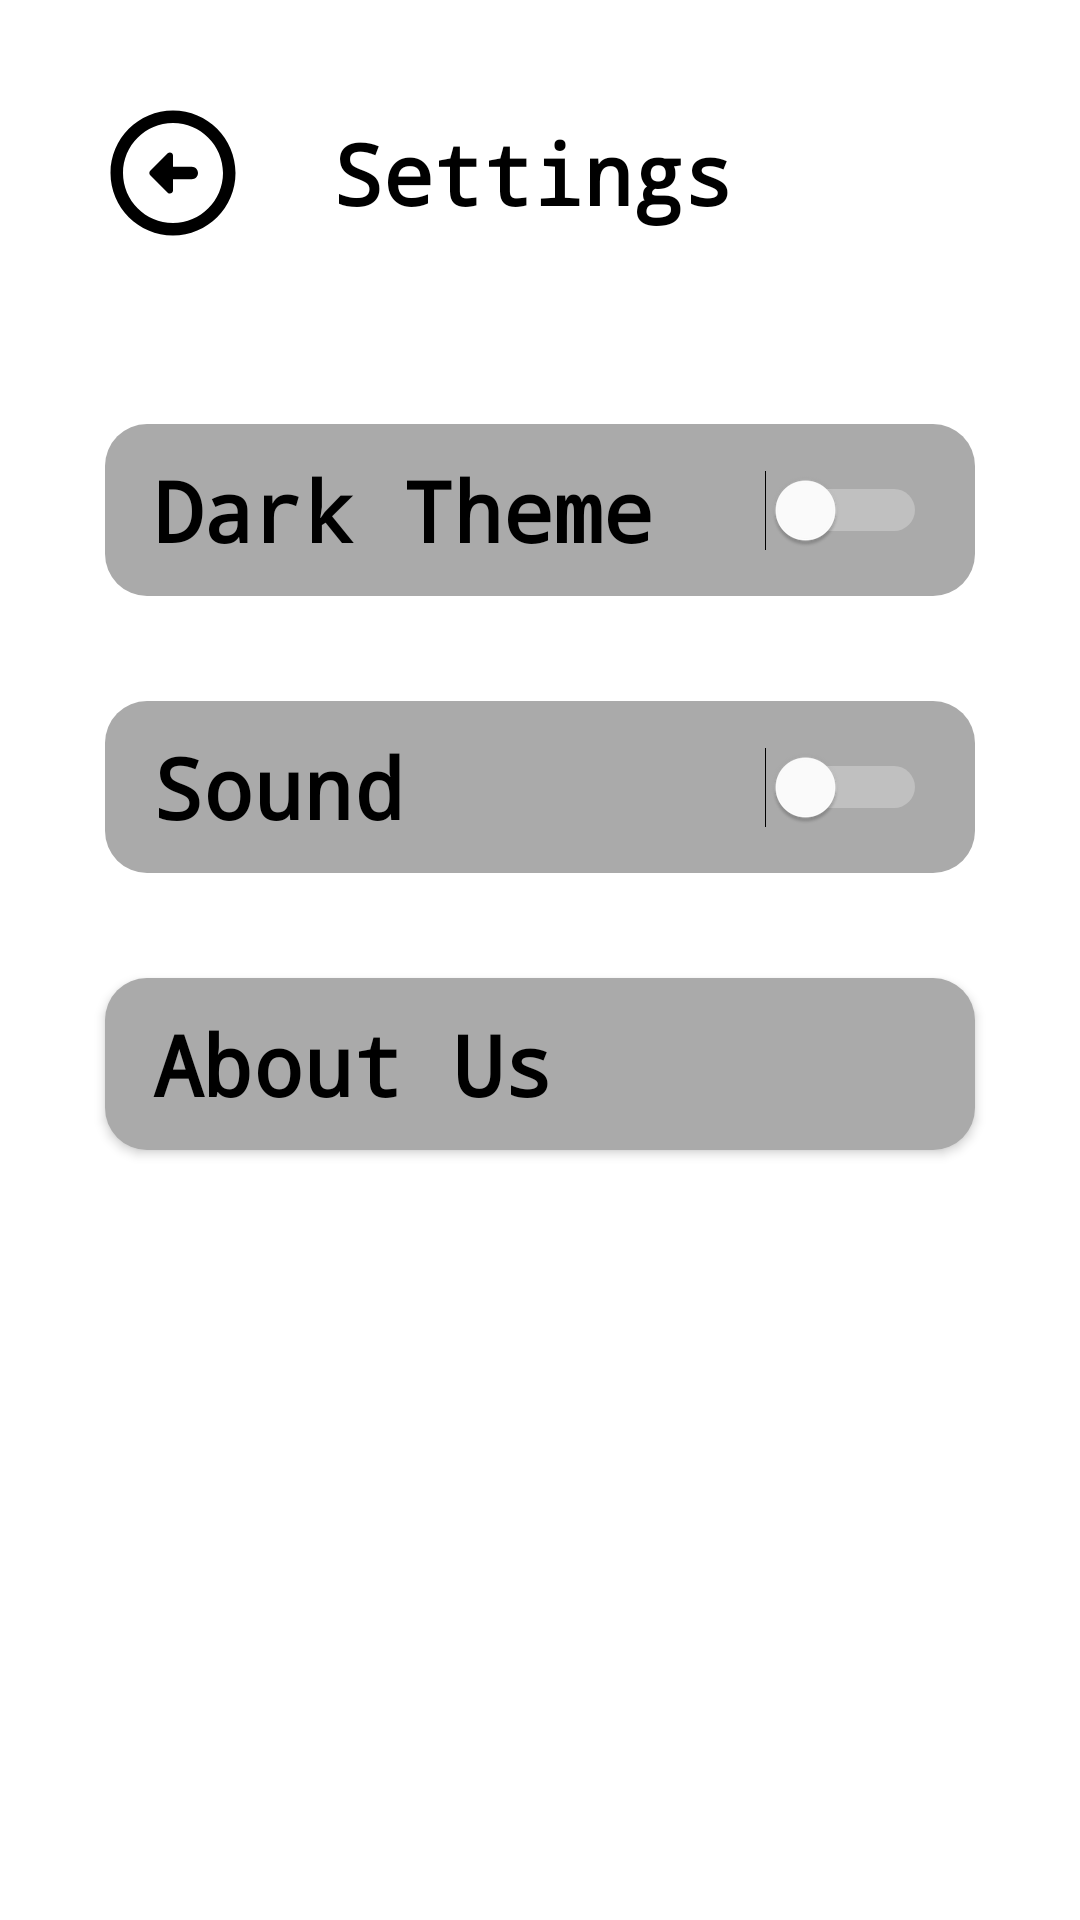

Icon click points for this 1080px×1920px phone screenshot, format (x,y):
backsetting: (173,173)
